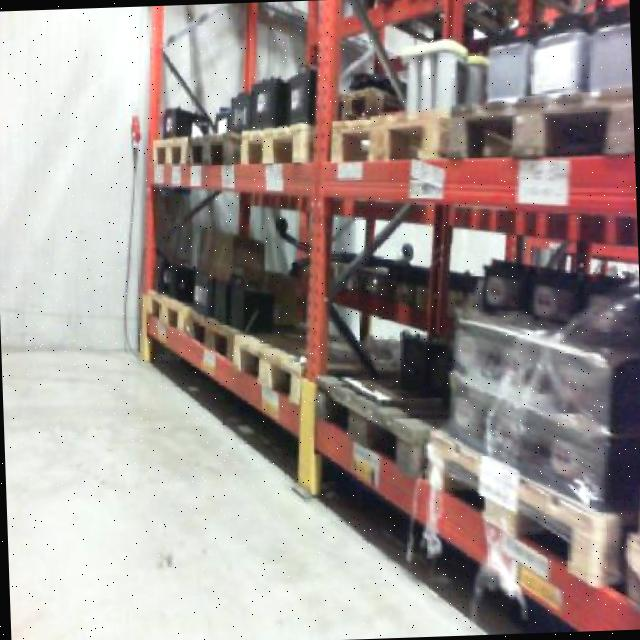pallet: (419, 411, 638, 611), (311, 360, 457, 487), (440, 90, 634, 170), (326, 99, 462, 174), (230, 323, 308, 403), (181, 299, 251, 367), (234, 119, 315, 171), (142, 281, 197, 342), (182, 124, 248, 174), (150, 130, 195, 172)
